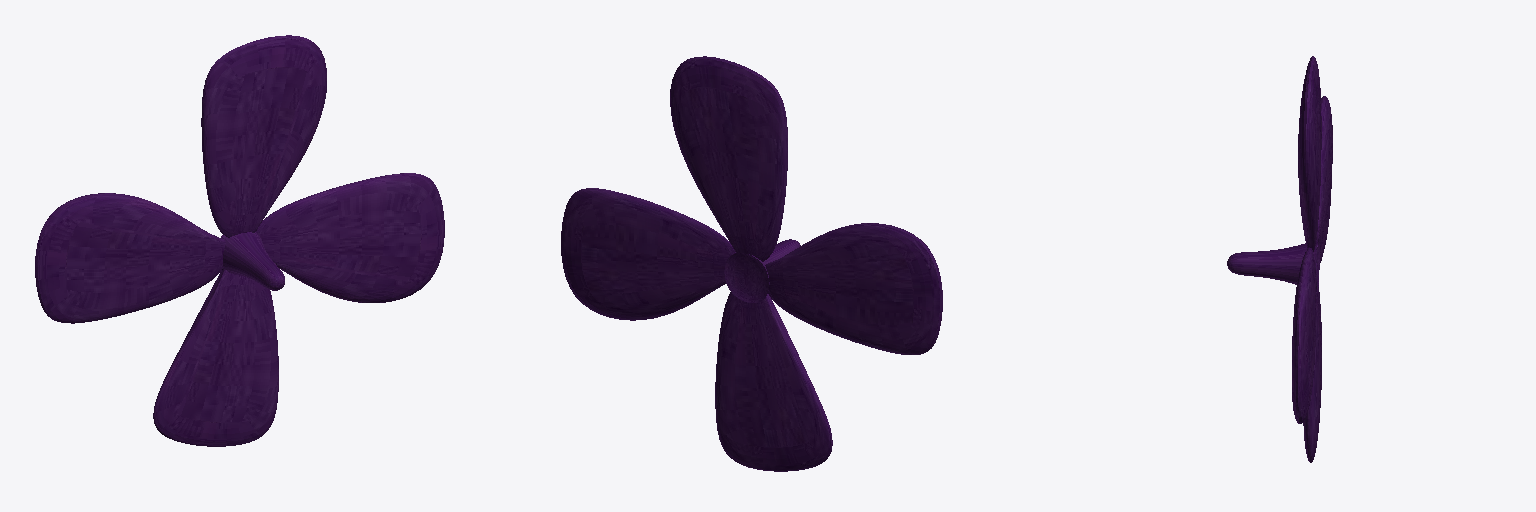
3 views of the same model, side by side, from view 1: azimuth 30°, elevation 25°; view 2: azimuth 150°, elevation 25°; view 3: azimuth 270°, elevation 25° (orthographic).
Parts seen in each view (by area): view 1: Cube.009; view 2: Cube.009; view 3: Cube.009.
Boxes of the visible parts, box(x1,y1,x2,y2) form: Cube.009: box(35, 35, 444, 446); Cube.009: box(561, 56, 942, 471); Cube.009: box(1227, 56, 1332, 462).
Size of the model in its own units: 0.0384 by 0.0372 by 0.0089.
Materials: 1 (1 with a texture image).